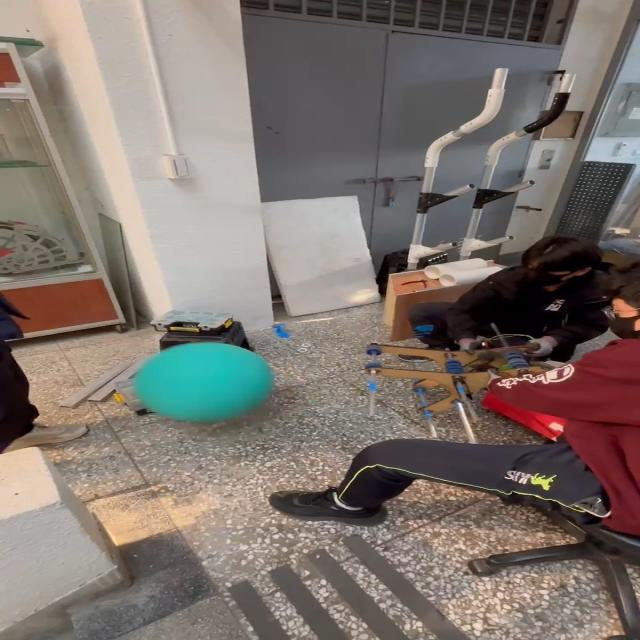ALGAE: (130, 340, 276, 424)
